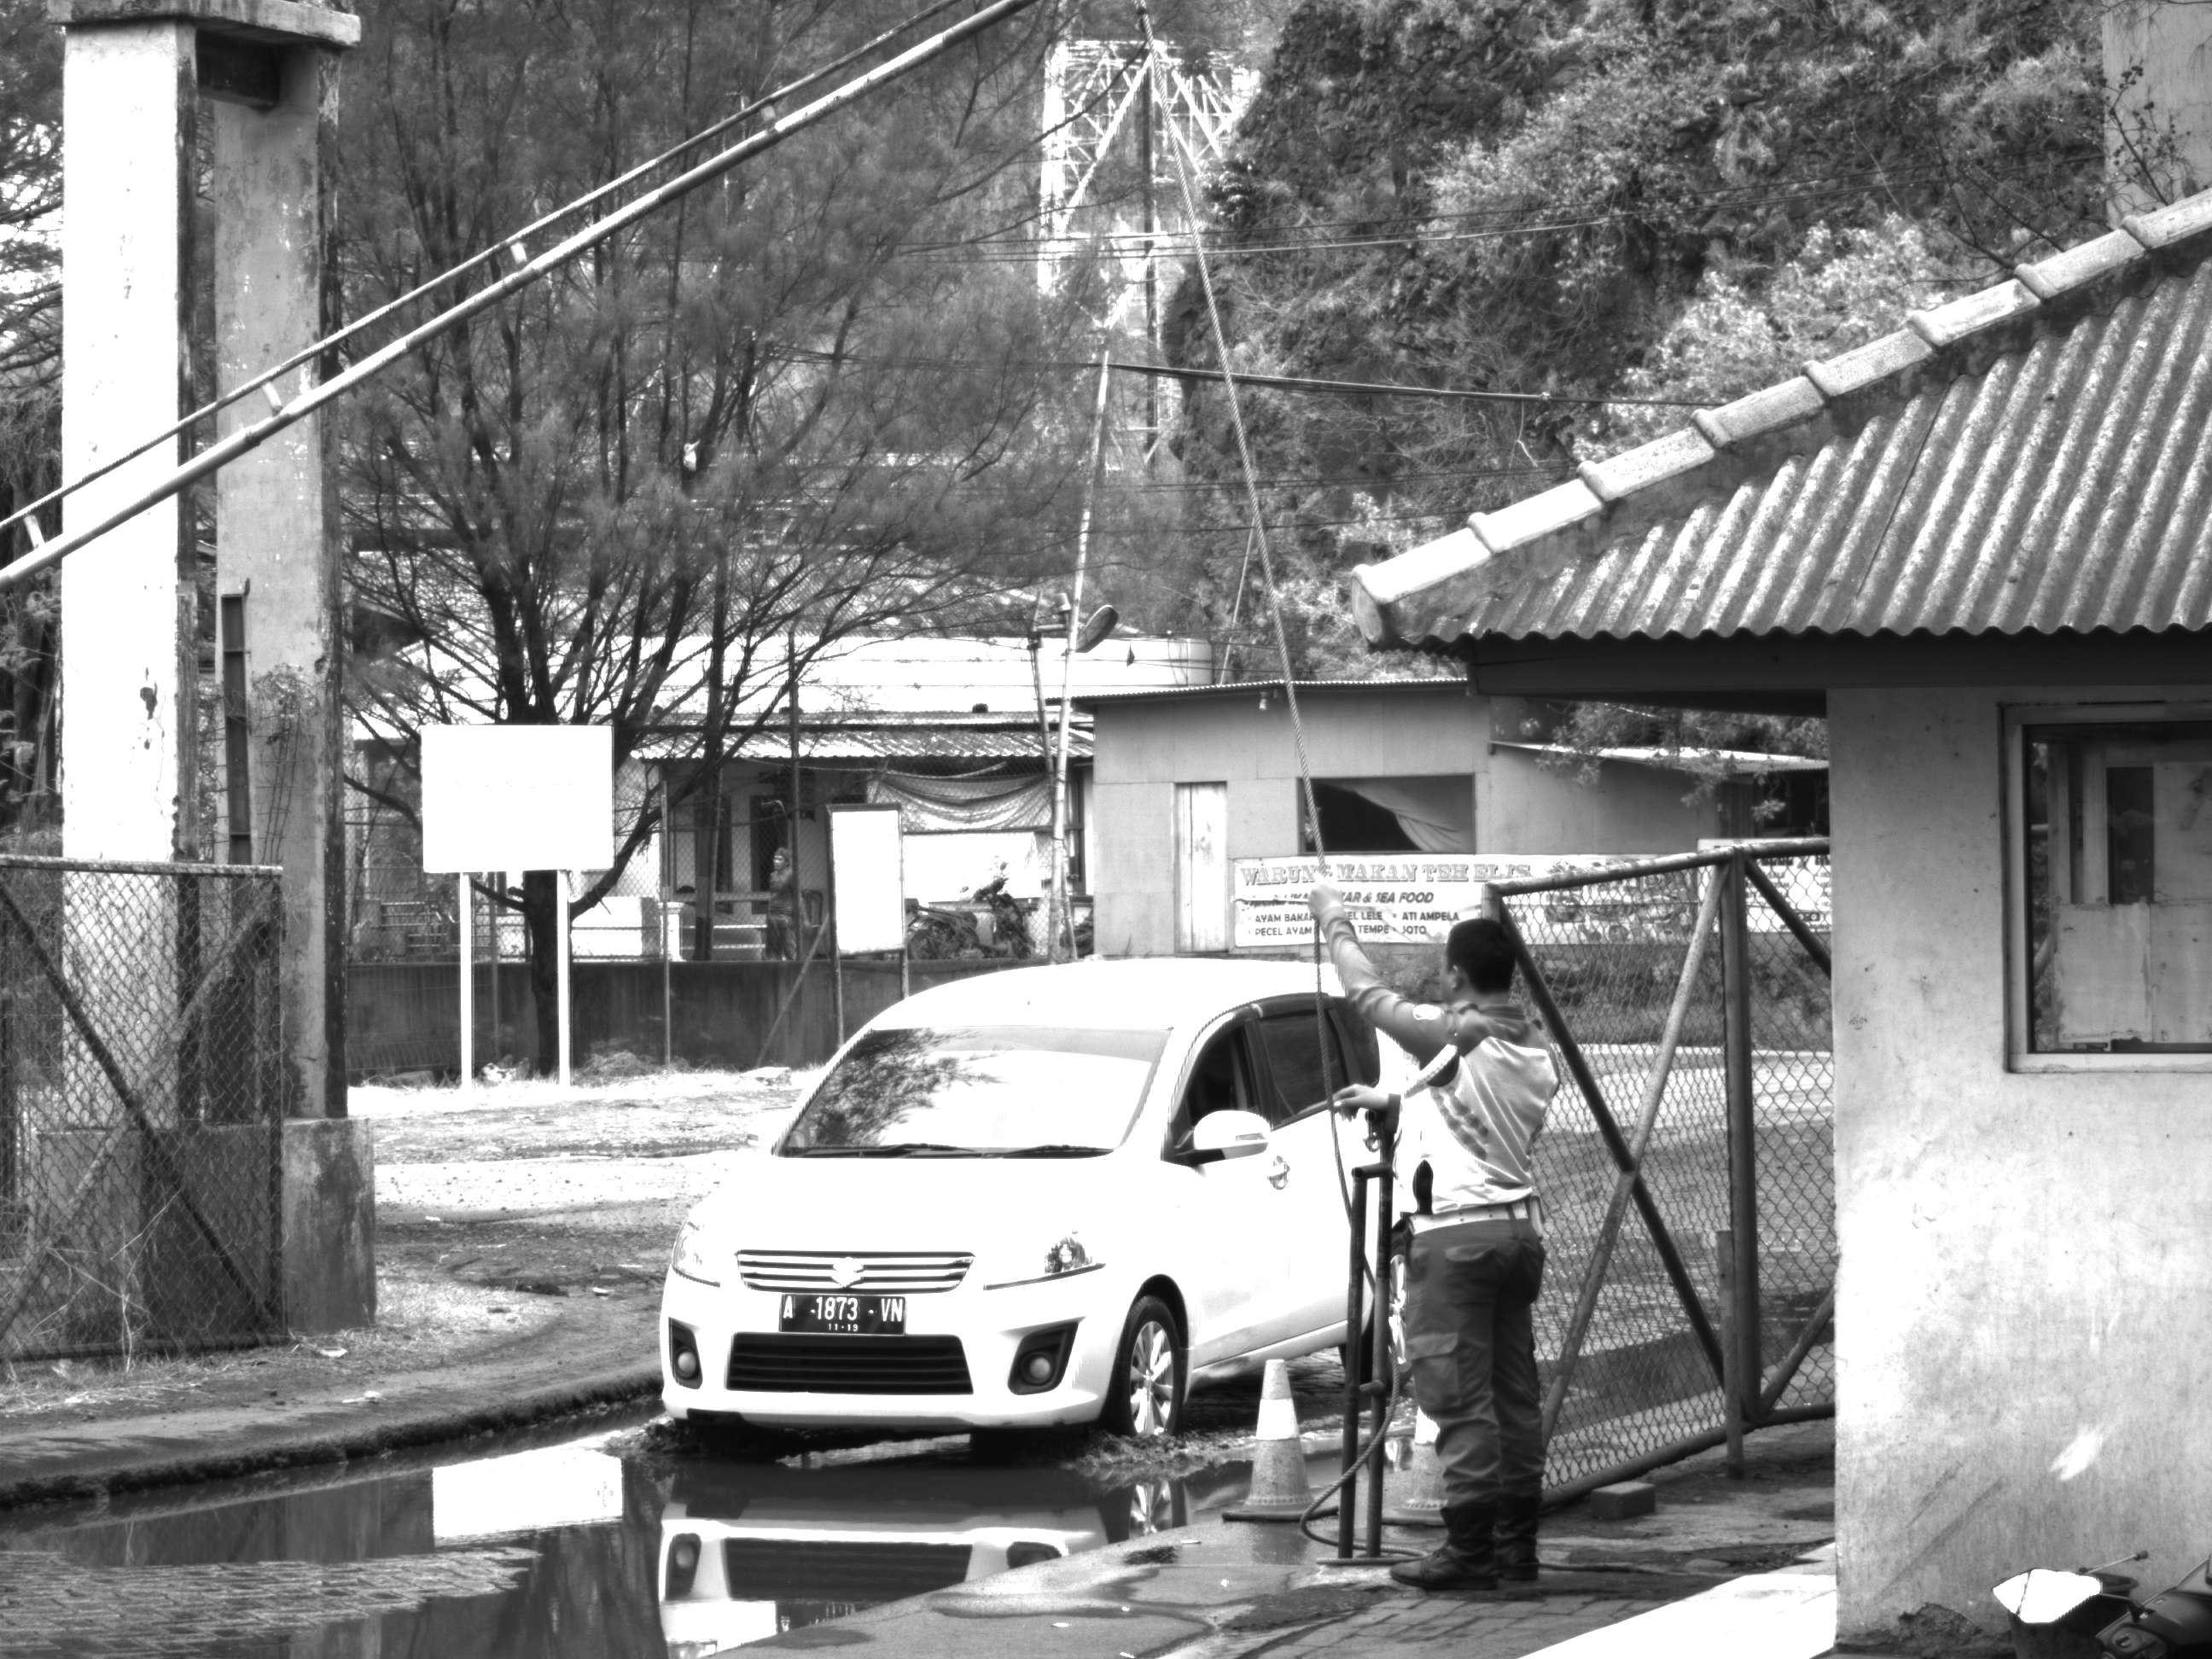day_small_front: (651, 975, 1208, 1447)
plate: (777, 1284, 915, 1341)
